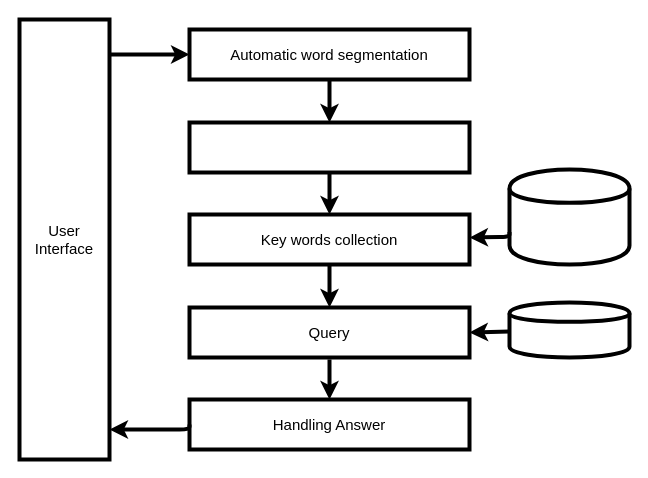
Some shapes in this 648 by 478 pixel diagram are drawn without their labels. Here are the shapes that lost their labels. From the top down, the centre of each, then its label:
At point 329,147: "Key words Extraction".
At point 569,216: "Relevant Ontology Collection".
At point 569,329: "FAQ collection".
